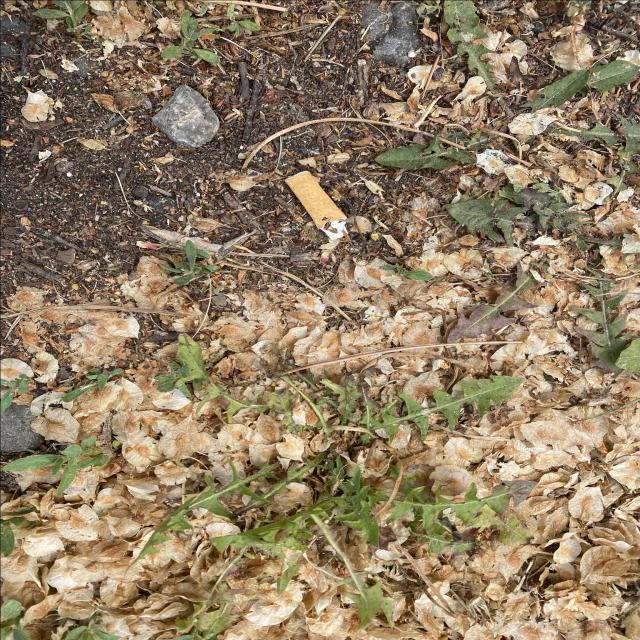other waste: (284, 170, 348, 241)
